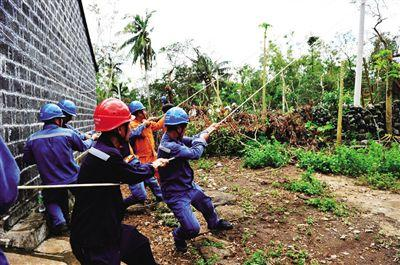boots: (208, 219, 233, 231), (50, 223, 70, 236), (123, 194, 146, 205), (174, 237, 187, 251)
gloves: (198, 116, 227, 141), (152, 157, 169, 167)
hard-hat: (93, 97, 135, 131), (164, 106, 189, 126), (39, 103, 66, 121), (129, 100, 146, 113)
person: (69, 97, 169, 265), (156, 106, 234, 252), (21, 103, 94, 236), (123, 99, 166, 206)
ppe-suit: (69, 138, 158, 264), (155, 131, 221, 239), (29, 122, 83, 219), (131, 112, 160, 167)
